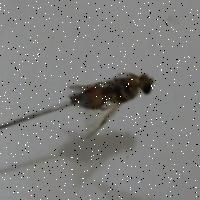Oriental-fruit-fly: (56, 52, 174, 150)
